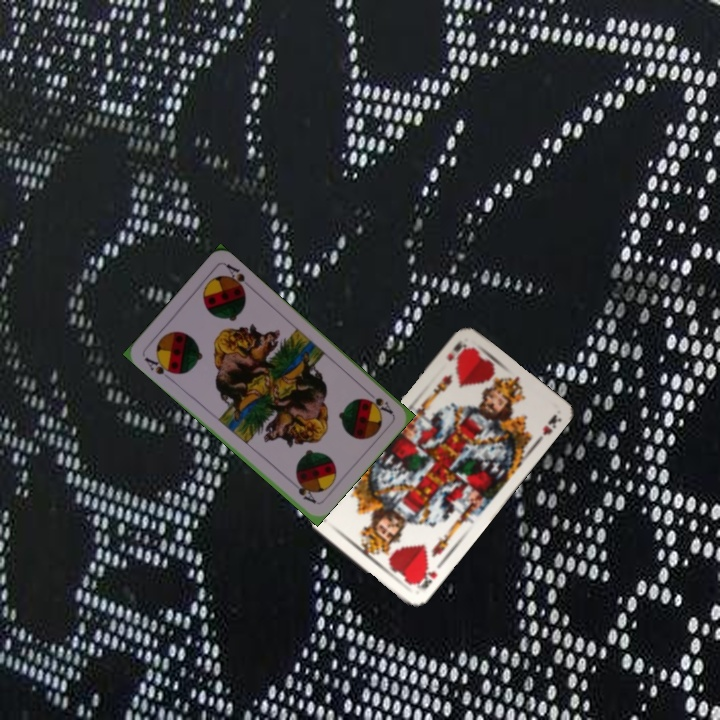HK: (410, 563, 440, 592), (442, 337, 469, 364)
SA: (361, 386, 396, 417), (140, 353, 178, 377)
